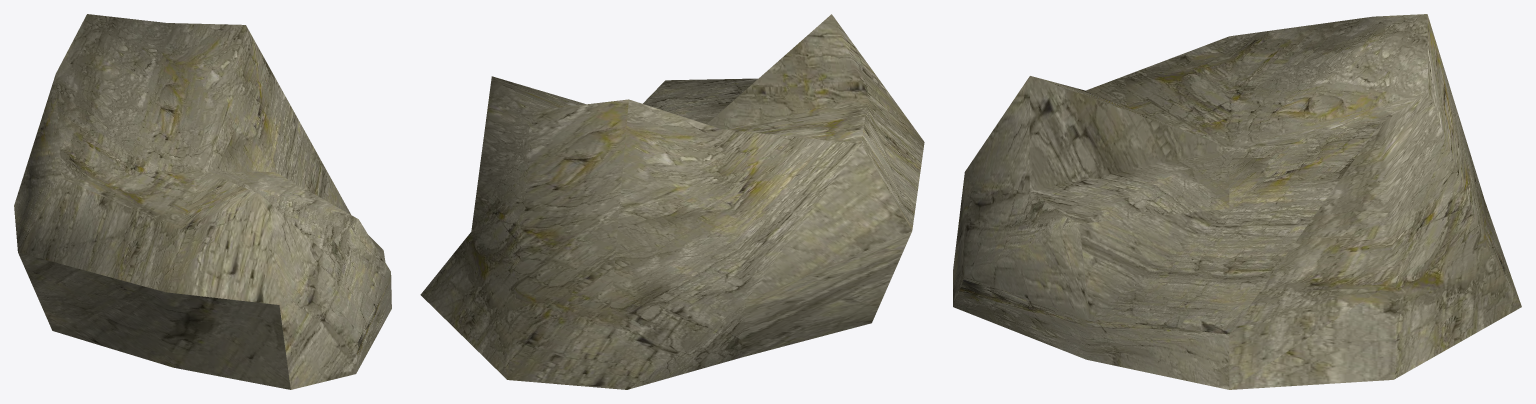
File: geology-stone-granite-boulder.glb
3 renders of one model, left to right at view 1: azimuth 30°, elevation 25°; view 2: azimuth 150°, elevation 25°; view 3: azimuth 270°, elevation 25°, orthographic. The views are drawn at different scales.
Parts seen in each view (by area): view 1: stone_granite_boulder_a; view 2: stone_granite_boulder_a; view 3: stone_granite_boulder_a.
Part boxes in pixels (left/top/right/bottom): stone_granite_boulder_a: left=14, top=14, right=391, bottom=389; stone_granite_boulder_a: left=420, top=14, right=924, bottom=389; stone_granite_boulder_a: left=953, top=14, right=1521, bottom=389.
Size of the model in its own units: 2.88 by 1.69 by 3.37.
1 material, 1 textured.
